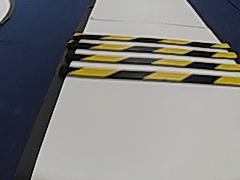bump: (58, 29, 239, 92)
